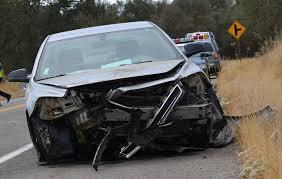Bonnet: (35, 57, 188, 88)
Bumper: (30, 105, 236, 164)
Light: (35, 93, 86, 121), (177, 73, 213, 102)
